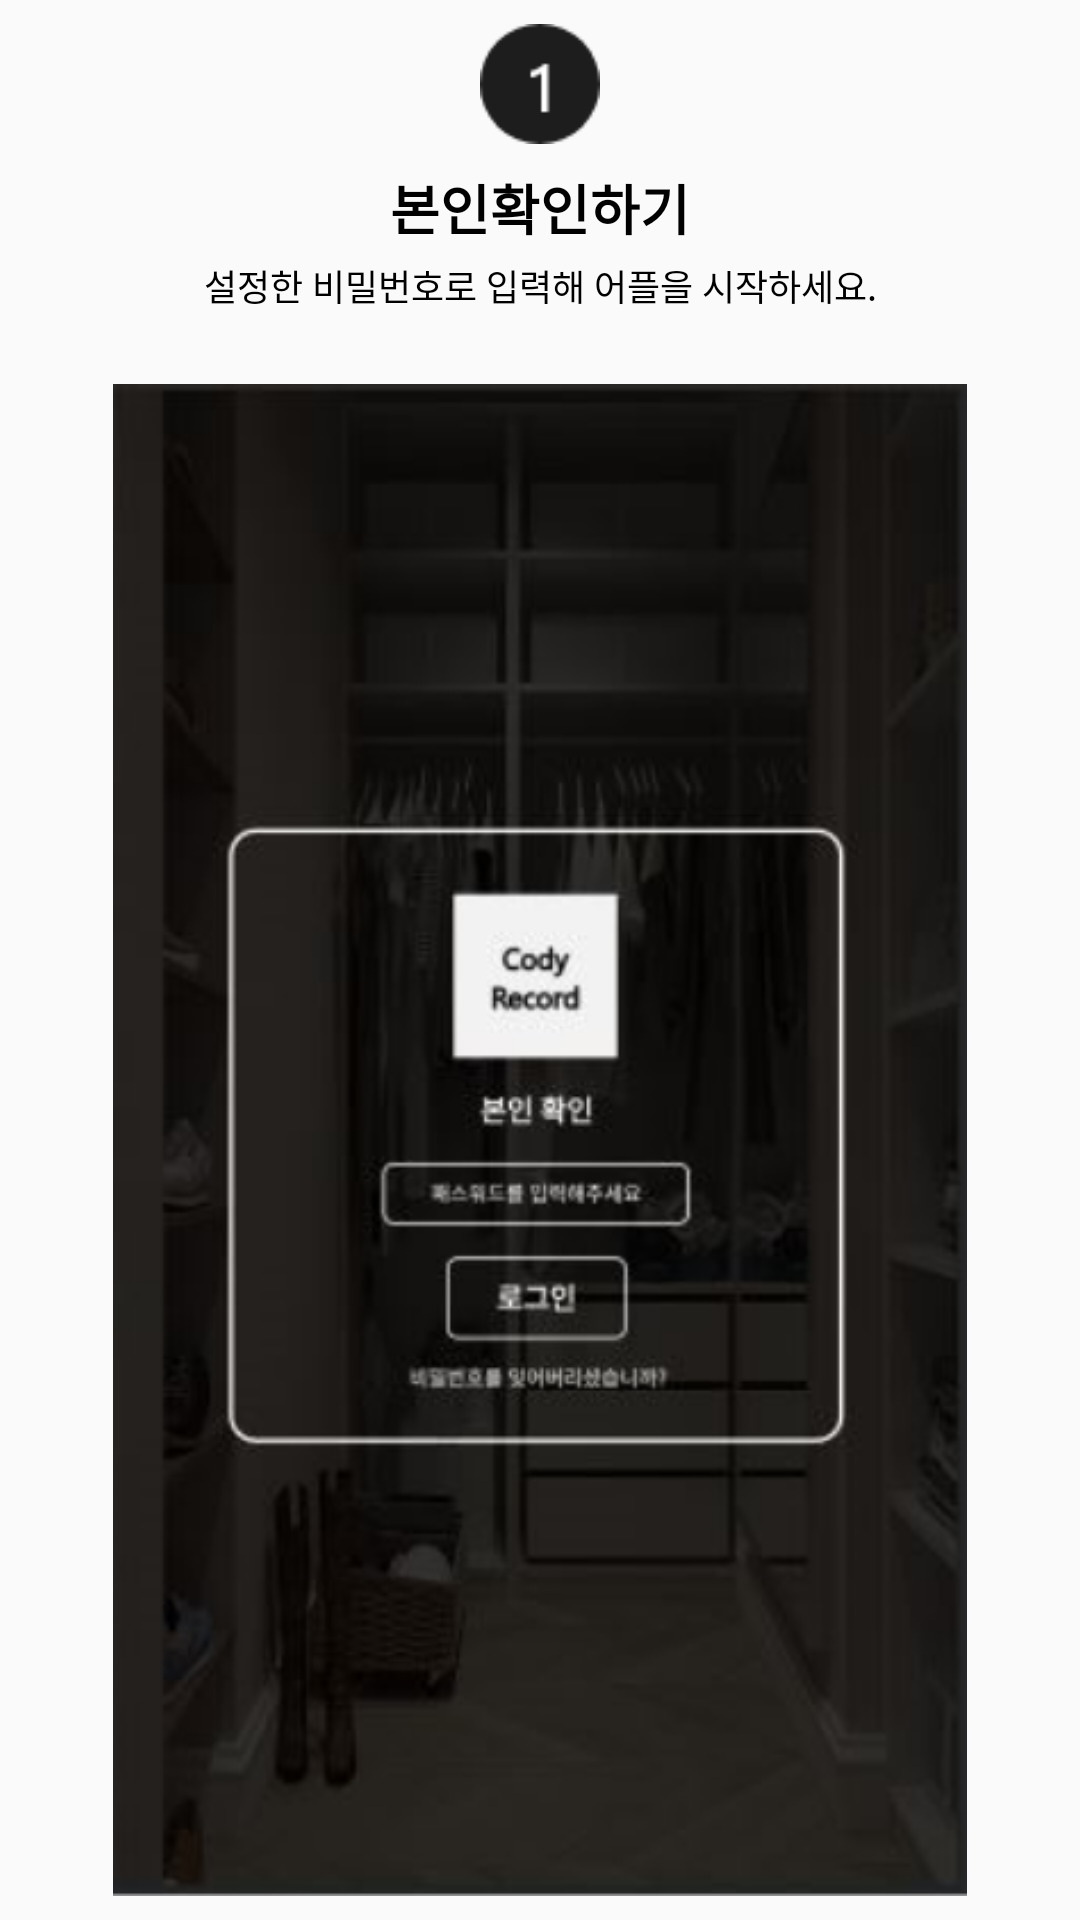

Where icons sit on this 1080w x 1920h app screen, as (x1, y1, x2, y2):
circle one: (480, 24, 600, 144)
